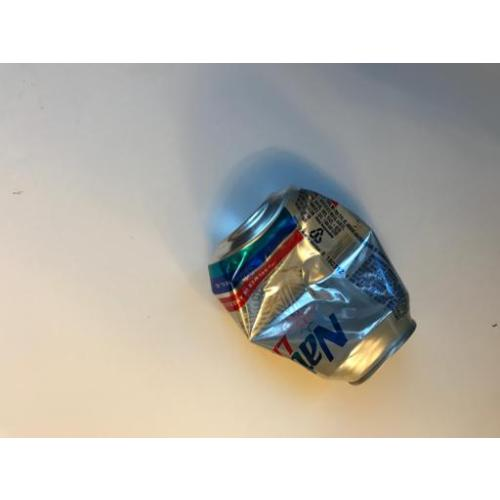metal: (212, 187, 416, 387)
